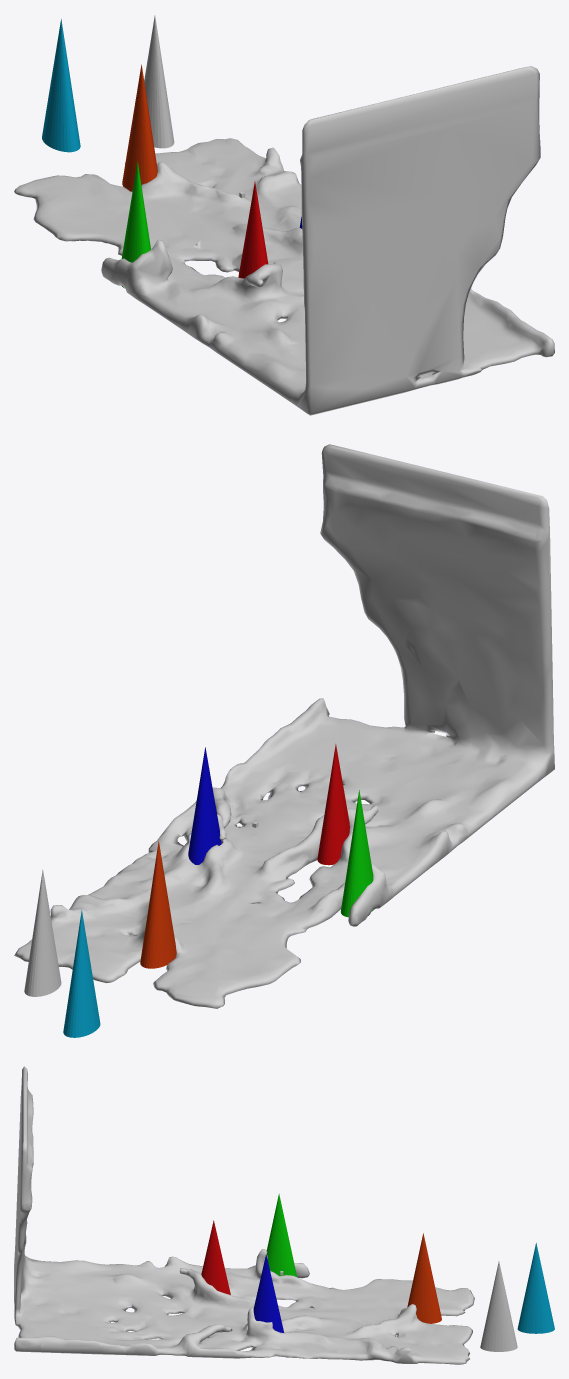
3 views of the same model, one above another, from view 1: azimuth 30°, elevation 25°; view 2: azimuth 150°, elevation 25°; view 3: azimuth 270°, elevation 25° (orthographic). The views are drawn at different scales.
Parts seen in each view (by area): view 1: Liquid_Domain, 円錐.005, 円錐.004, 円錐, 円錐.003, 円錐.001; view 2: Liquid_Domain, 円錐, 円錐.005, 円錐.004, 円錐.001, 円錐.002, 円錐.003; view 3: Liquid_Domain, 円錐.005, 円錐, 円錐.004, 円錐.003, 円錐.002, 円錐.001.
Boxes of the visible parts, x1,y1,x2,y2 form: Liquid_Domain: [14, 66, 554, 415]; 円錐.005: [42, 19, 80, 152]; 円錐.004: [122, 64, 157, 191]; 円錐: [144, 15, 174, 148]; 円錐.003: [121, 161, 150, 288]; 円錐.001: [238, 181, 268, 278]; Liquid_Domain: [14, 444, 554, 1008]; 円錐: [24, 869, 61, 996]; 円錐.005: [63, 909, 100, 1037]; 円錐.004: [140, 841, 176, 968]; 円錐.001: [317, 744, 349, 865]; 円錐.002: [188, 747, 221, 864]; 円錐.003: [340, 790, 374, 917]; Liquid_Domain: [14, 1066, 474, 1364]; 円錐.005: [517, 1243, 554, 1333]; 円錐: [480, 1261, 517, 1351]; 円錐.004: [407, 1233, 441, 1323]; 円錐.003: [266, 1193, 296, 1276]; 円錐.002: [253, 1254, 283, 1332]; 円錐.001: [201, 1220, 230, 1294].
Bounding box in the file's own units: 129 × 158 × 347.
